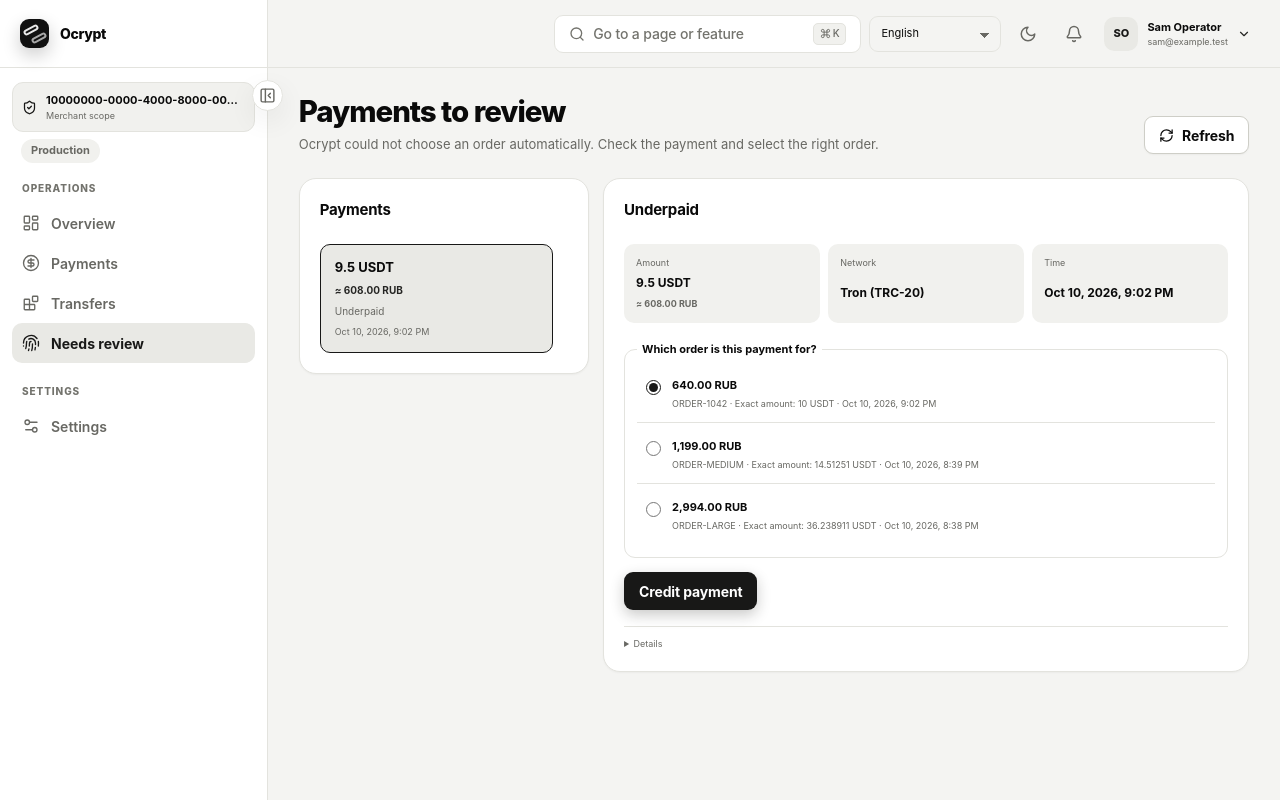
admin application › presents a plain-language unmatched review and submits a fenced resolution
Expected: the heading "Payments to review" is shown, [299,93,565,129]
Expected: the radio button labelled "ORDER-1042" is shown, [646,380,661,396]
Click the button "Credit payment".
click(691, 592)  # box [624,572,757,610]
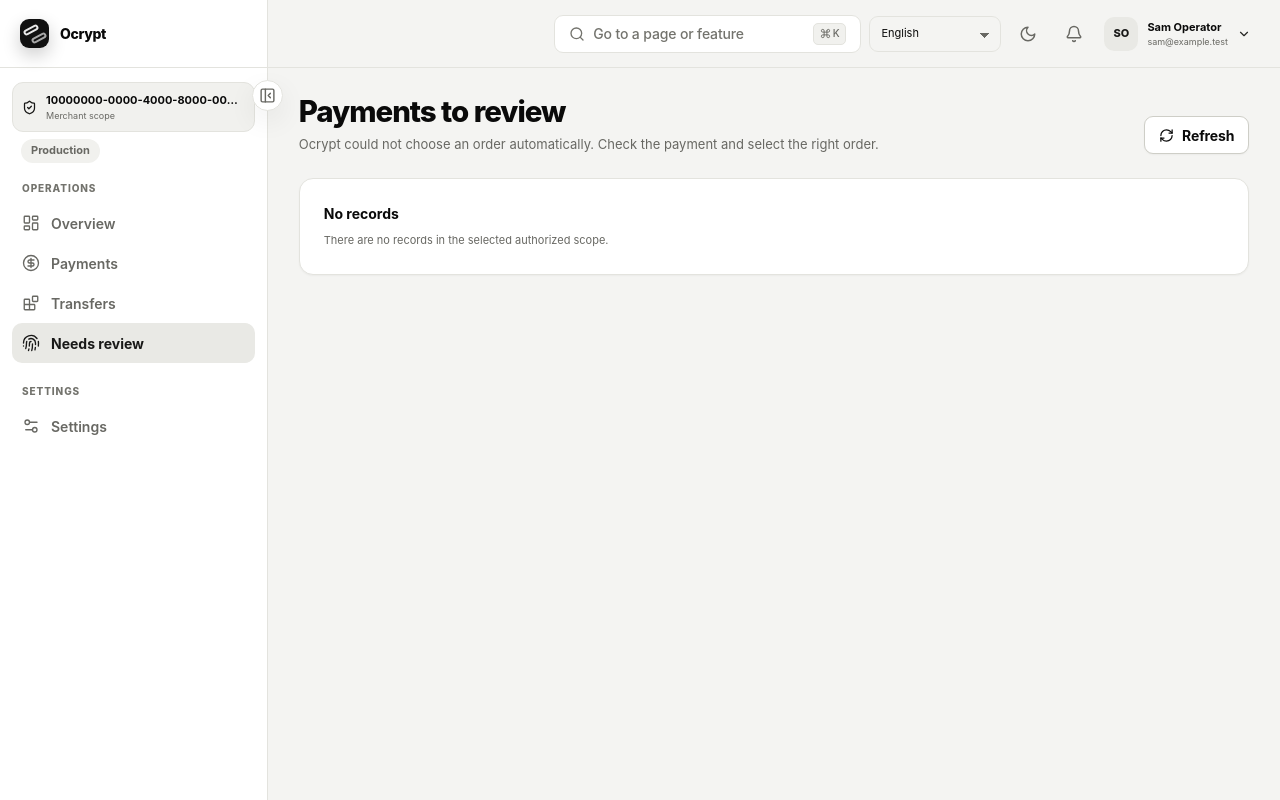
Expected: the button "9.5 USDT" is gone
